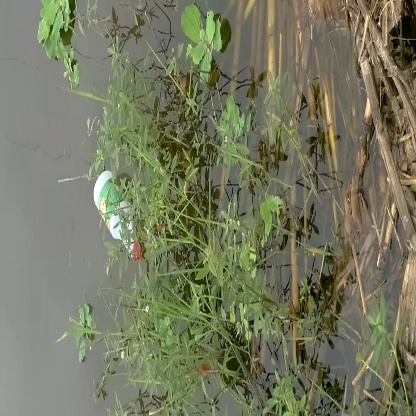bottle: (91, 168, 160, 261)
